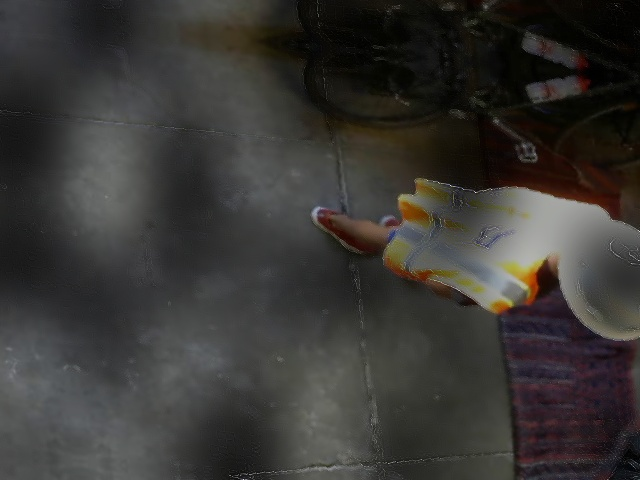eight: (607, 231, 639, 266)
